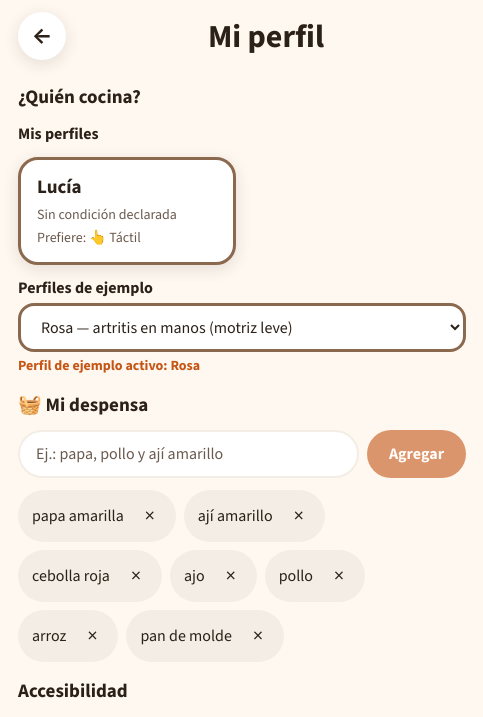
Test: ProfileScreen › ¿Quién cocina? › volver desde un ejemplo a un perfil propio con la tarjeta
Expected: the dropdown labelled "Perfiles de ejemplo" shows "Rosa — artritis en manos (motriz leve)", [18,303,466,352]
Step 1. Click the button "Lucía Sin condición declarada Prefiere: 👆 Táctil" → (127,211), box [18,157,236,265]
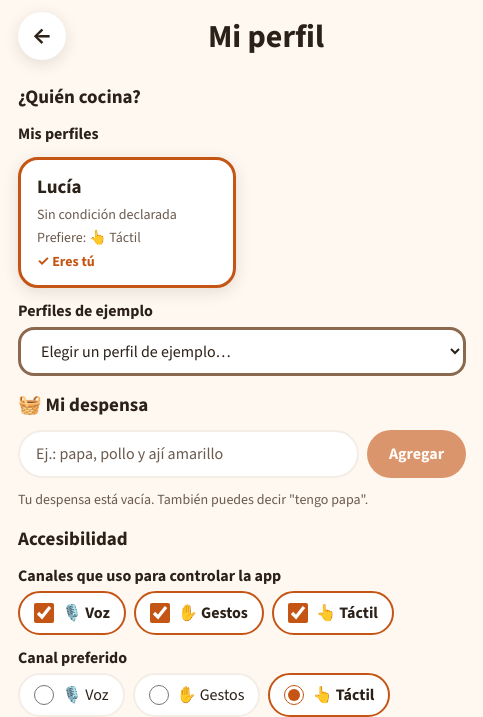
Expected: the dropdown labelled "Perfiles de ejemplo" shows "Elegir un perfil de ejemplo…", [18,327,466,376]
